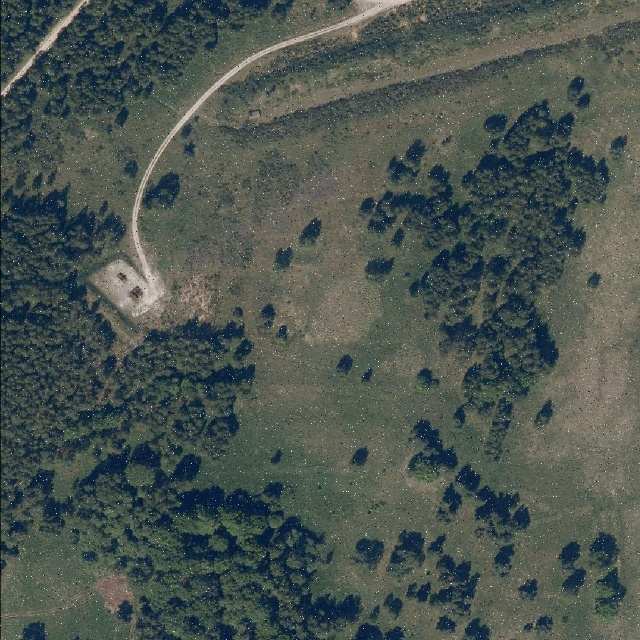vegetation: (2, 0, 363, 640), (356, 79, 606, 640)
